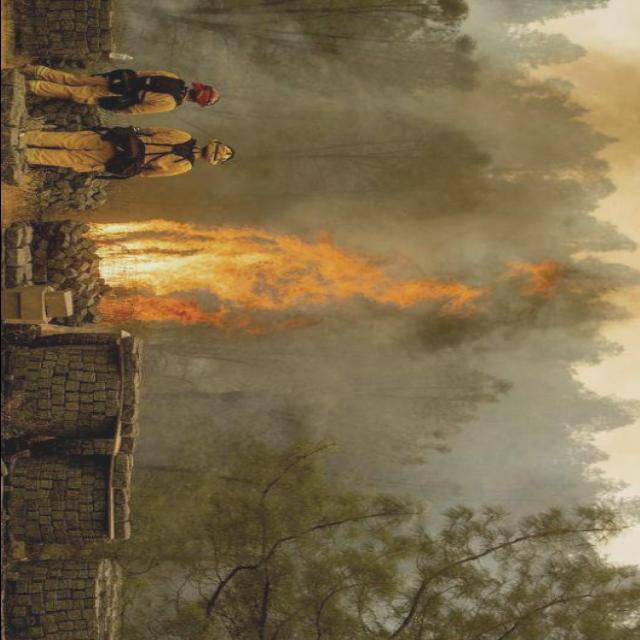Fire: (79, 212, 501, 342)
